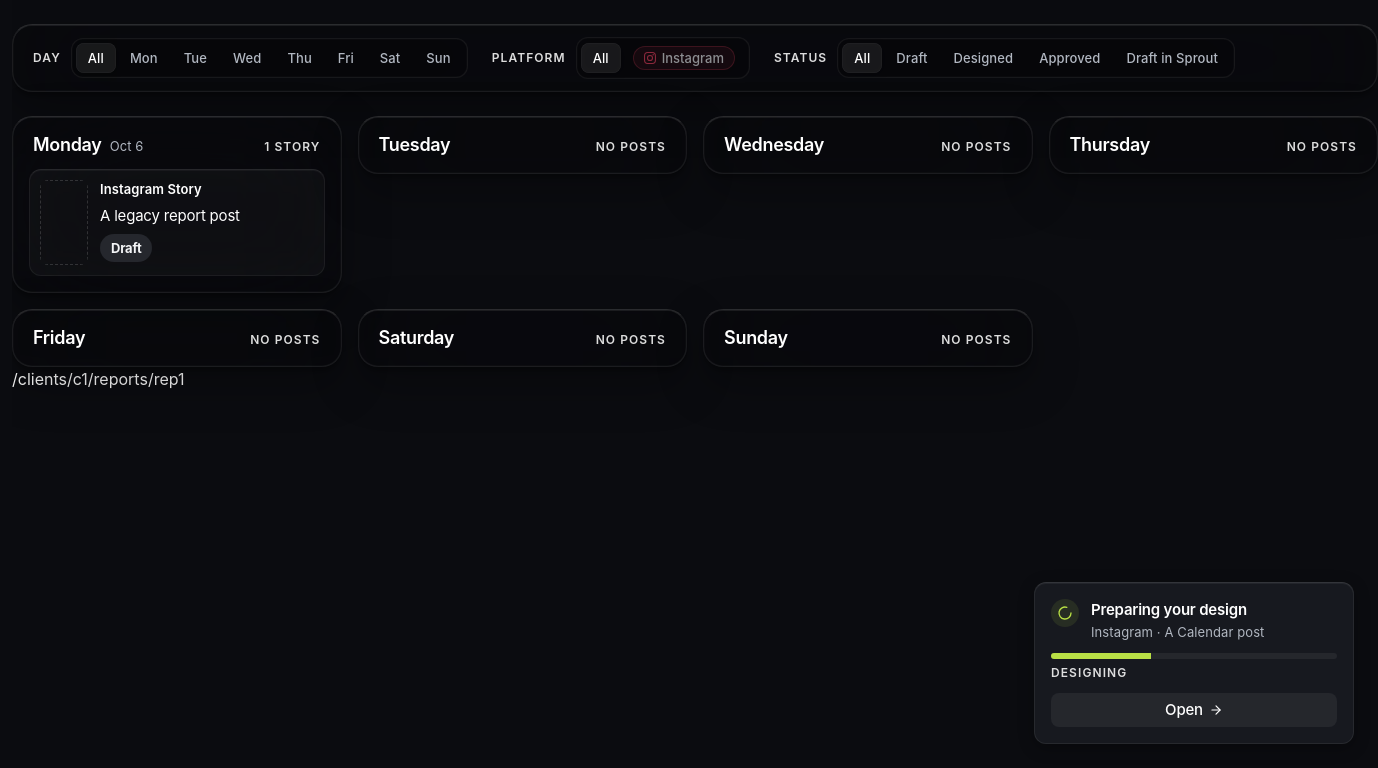
Test: P08-02 report tab: Open on a design progress card › takes the person to the post on the Calendar, on its Design tab
Click the button "Open". click: (1194, 710)
box: top-left (1051, 693), bottom-right (1337, 727)
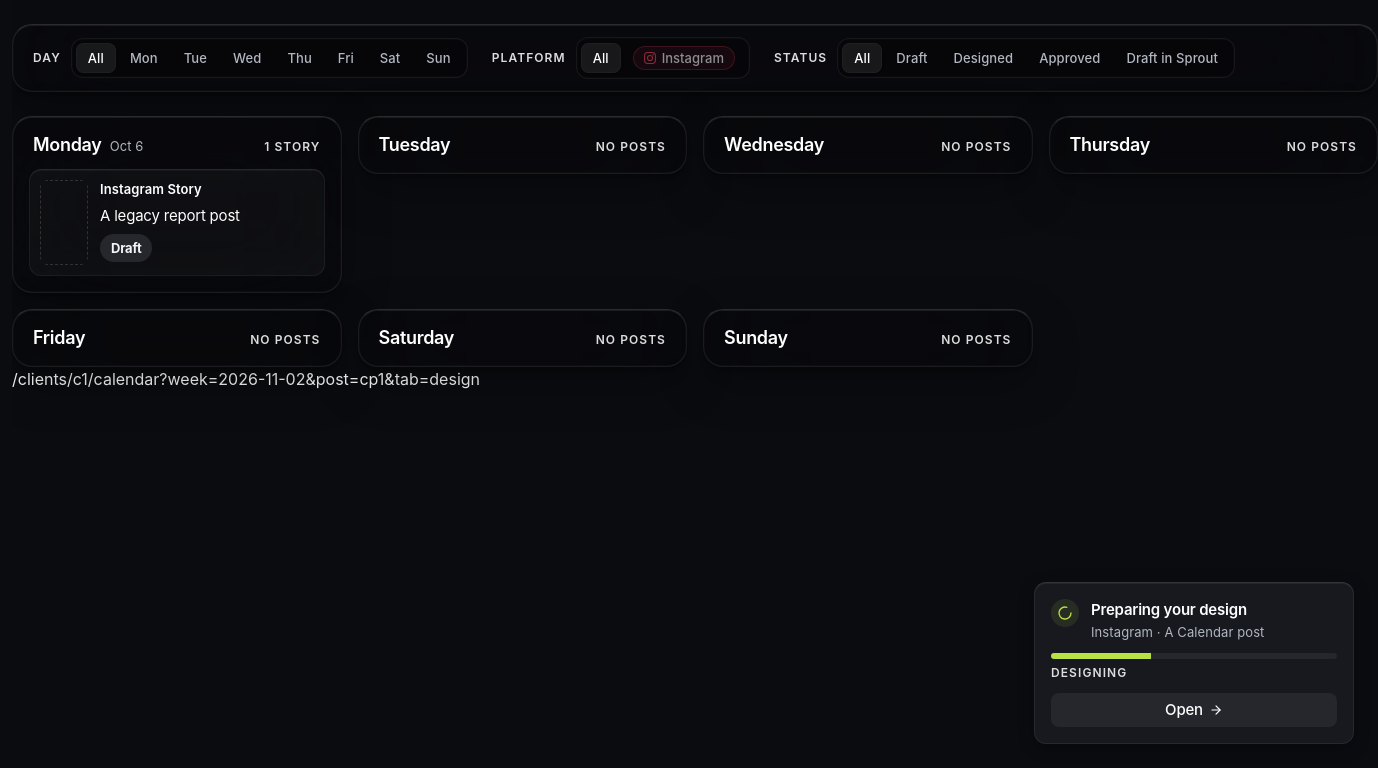
expect the text with test id "where" reads "/clients/c1/calendar?week=2026-11-02&post=cp1&tab=design": met, box top-left (12, 369), bottom-right (480, 389)
